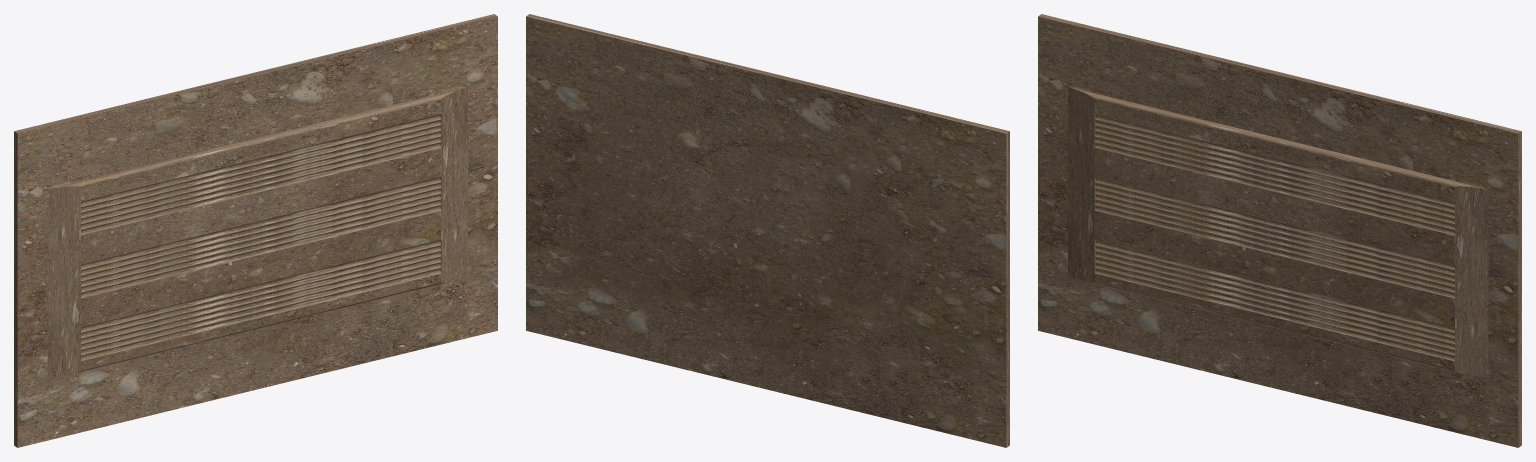
The model's file is ground.dae.
3 renders of one model, left to right at view 1: azimuth 30°, elevation 25°; view 2: azimuth 150°, elevation 25°; view 3: azimuth 330°, elevation 25°, orthographic.
Parts seen in each view (by area): view 1: Body4; view 2: Body4; view 3: Body4.
Boxes of the visible parts, x1=… form: Body4: x1=14, y1=14, x2=497, y2=447; Body4: x1=526, y1=14, x2=1009, y2=447; Body4: x1=1038, y1=14, x2=1521, y2=447.
Bounding box in the file's own units: 40 × 1 × 25.
